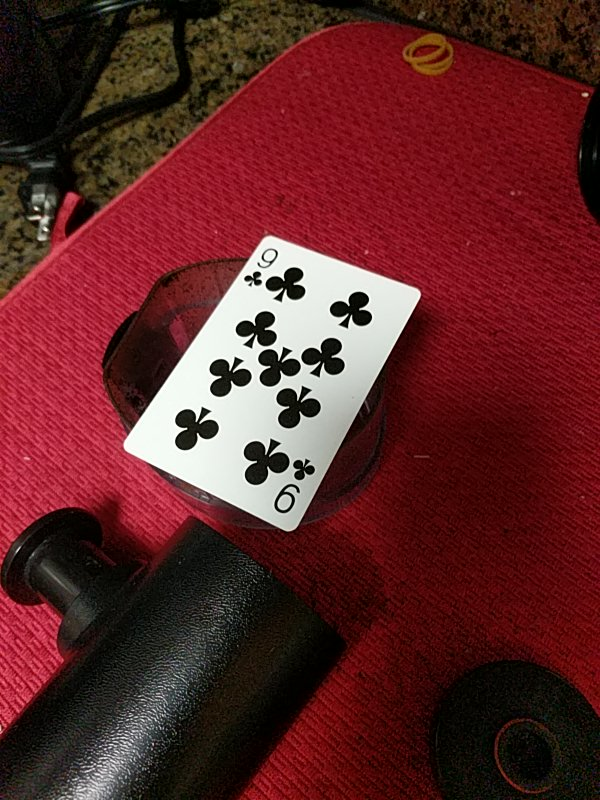Clubs: (121, 233, 427, 534)
